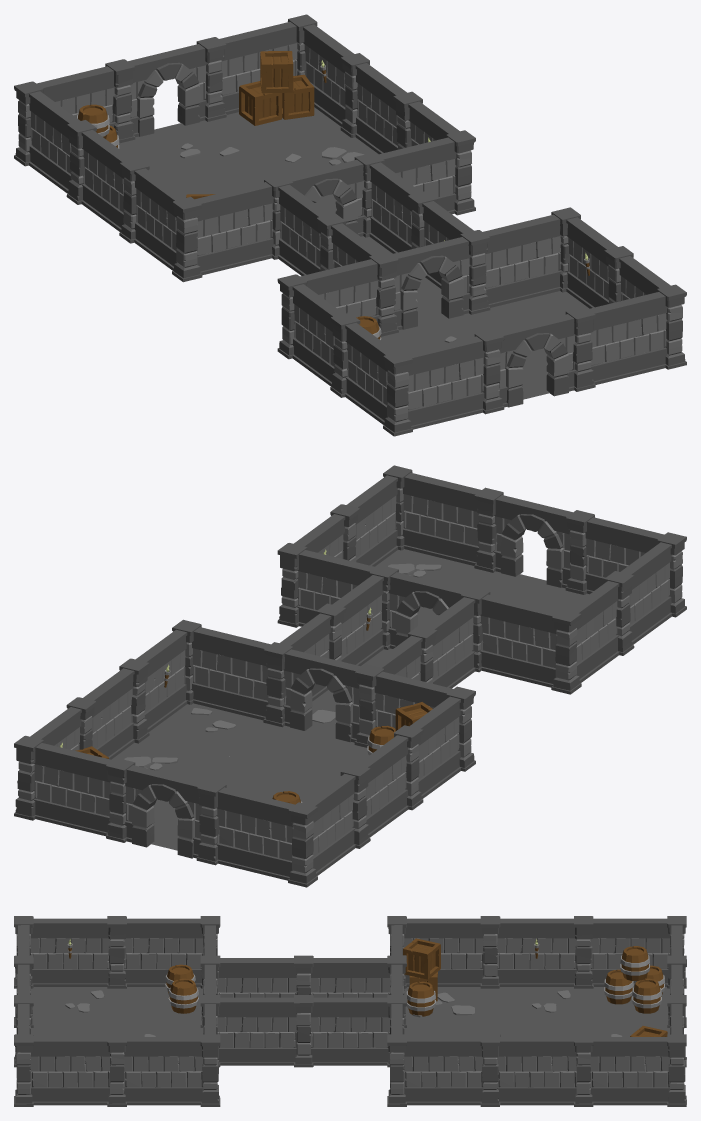
Rendered from dungeon.fbx.
The picture shows the model from 3 angles, top to bottom: view 1: azimuth 30°, elevation 25°; view 2: azimuth 150°, elevation 25°; view 3: azimuth 270°, elevation 25°; orthographic projection. The views are drawn at different scales.
Visible parts, largest first — view 1: Columna1.016, Columna2.003, Columna1.013, Columna1.006, Door.009, Door.008, Door.003, Columna1.007, Columna1.017, Columna2.002, Columna1.005, Columna3.008 (+26 smaller); view 2: Columna1.015, Columna1.010, Columna2.002, Columna1.013, Columna1.005, Door.003, Door.004, Door.009, Columna1.016, Columna3.008, Columna3.005, Columna1.007 (+22 smaller); view 3: Columna3.003, Columna3.006, Columna3.004, Columna1.012, Columna1.009, Columna1.003, Columna1.008, Columna3.008, Columna1.017, Columna1.004, Columna3.005, Columna1.007 (+31 smaller).
Part boxes in pixels (x1,y1,x2,y2): Columna1.016: (406, 329, 504, 429); Columna2.003: (460, 214, 561, 314); Columna1.013: (588, 284, 686, 384); Columna1.006: (195, 174, 293, 275); Door.009: (497, 307, 595, 407); Door.008: (369, 237, 470, 336); Door.003: (105, 44, 207, 143); Columna1.007: (134, 168, 202, 282); Columna1.017: (345, 322, 412, 436); Columna2.002: (196, 21, 297, 121); Columna1.005: (377, 130, 475, 215); Columna3.008: (292, 284, 360, 397); Columna1.015: (479, 594, 581, 694); Columna1.010: (216, 787, 317, 887); Columna2.002: (33, 743, 135, 842); Columna1.013: (383, 465, 481, 565); Columna1.005: (172, 619, 270, 720); Door.003: (124, 765, 226, 865); Door.004: (263, 642, 361, 742); Door.009: (474, 487, 572, 588); Columna1.016: (565, 510, 664, 594); Columna3.008: (568, 571, 634, 683); Columna3.005: (304, 764, 370, 875); Columna1.007: (410, 686, 475, 798); Columna3.003: (590, 1034, 686, 1106); Columna3.006: (124, 1034, 220, 1106); Columna3.004: (404, 1034, 500, 1106); Columna1.012: (30, 1034, 126, 1106); Columna1.009: (294, 995, 389, 1067); Columna1.003: (497, 1034, 593, 1106); Columna1.008: (480, 916, 576, 988); Columna3.008: (107, 916, 203, 988); Columna1.017: (14, 916, 109, 988); Columna1.004: (217, 997, 296, 1065); Columna3.005: (574, 916, 669, 988); Columna1.007: (387, 916, 483, 988).
Bounding box in the file's own units: 1284 × 315 × 2885.
